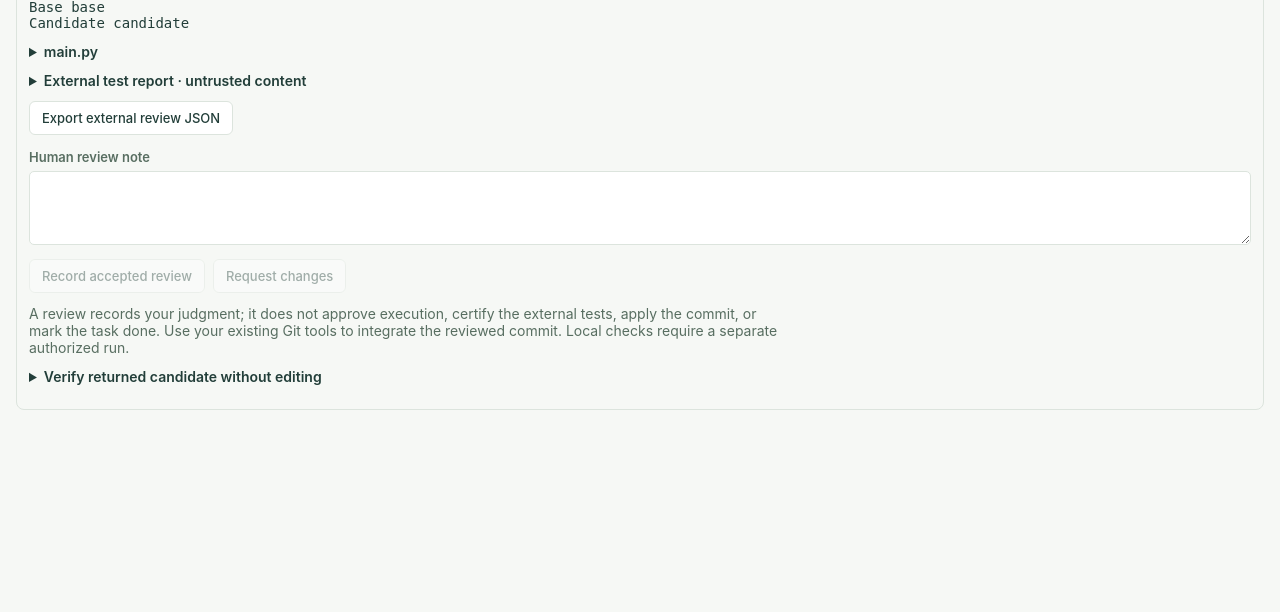
Test case: backs off repeated transient reads to eight seconds and resets after a successful active observation
Click the heading "Verify returned candidate without editing": (183, 376) x1=44 y1=368 x2=322 y2=385
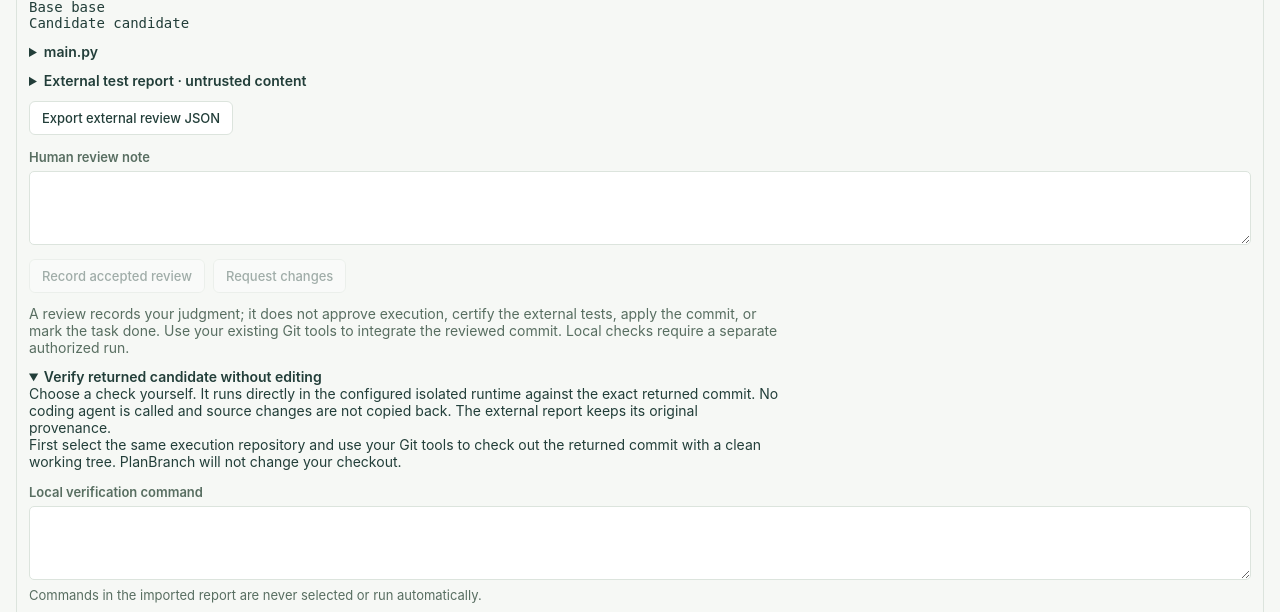
In the text box labelled "Local verification command": (640, 543) x1=29 y1=506 x2=1251 y2=580, type "test"
(page scrolled)
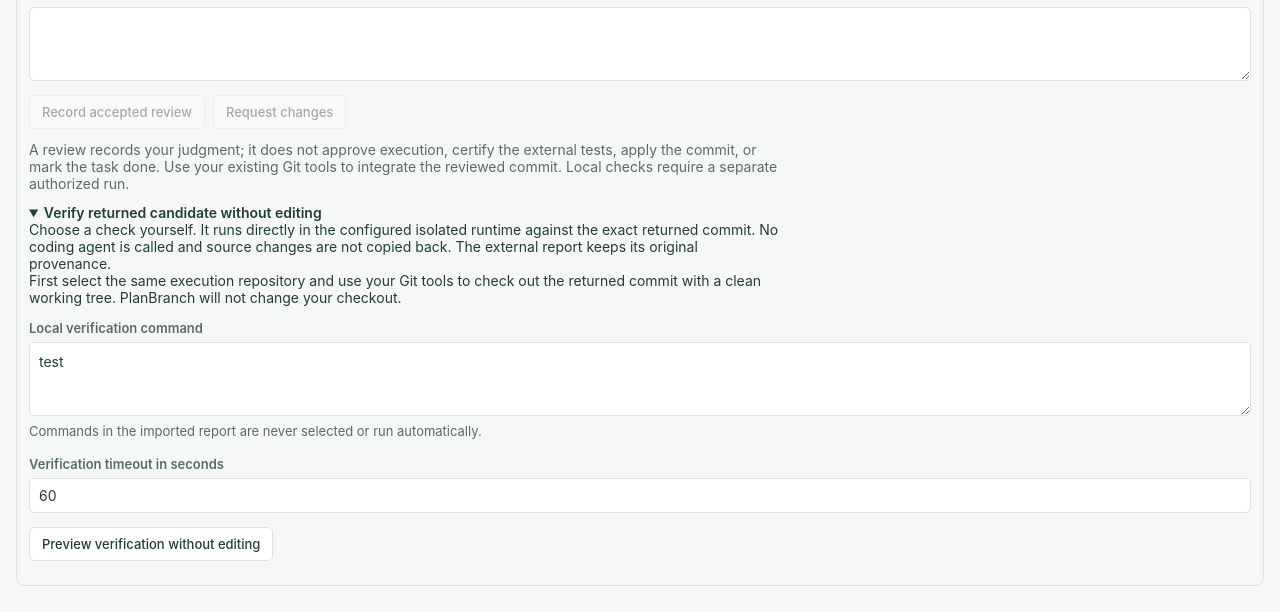
Click the button "Preview verification without editing": (151, 544) x1=29 y1=526 x2=273 y2=560
(page scrolled)
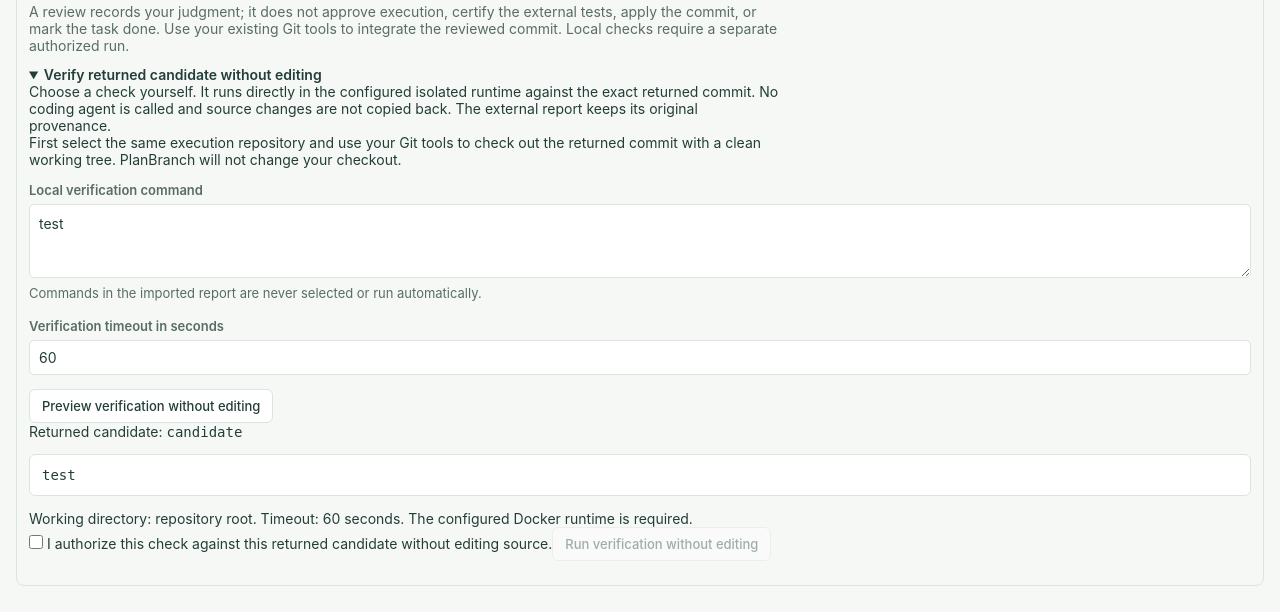
Click the checkbox labelled "I authorize this check": (36, 542) x1=29 y1=534 x2=43 y2=548
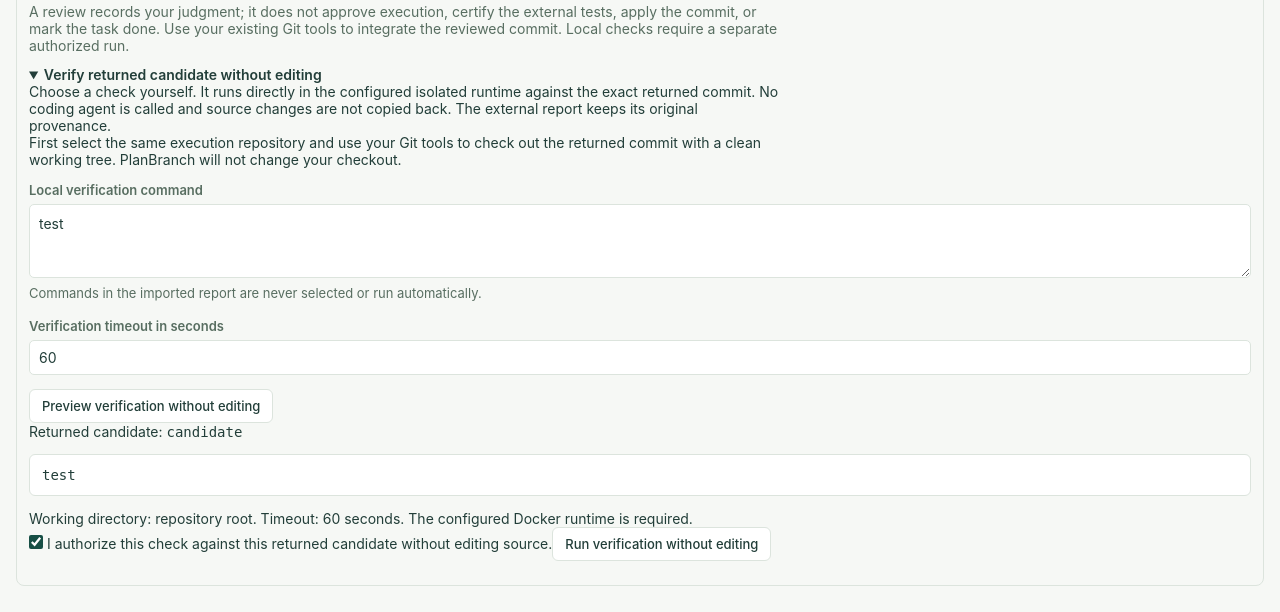
Click the button "Run verification without editing": (662, 544) x1=552 y1=526 x2=771 y2=560
Wait 26000 ms
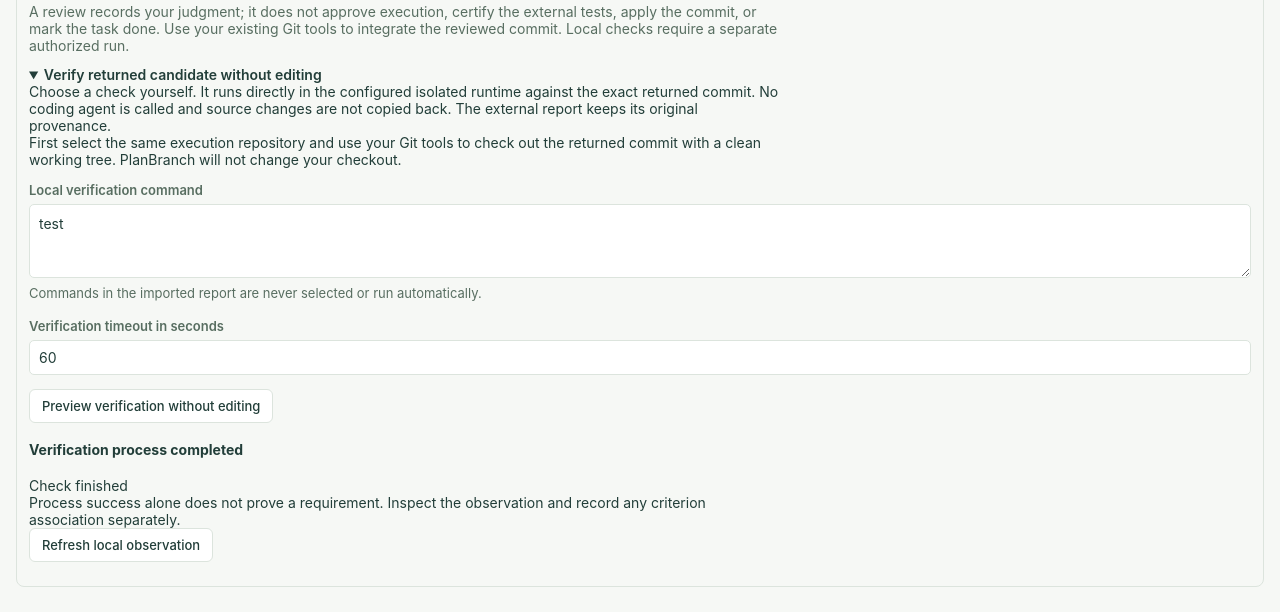
Expected: the heading "Verification process completed" is shown, x1=29 y1=441 x2=243 y2=458
